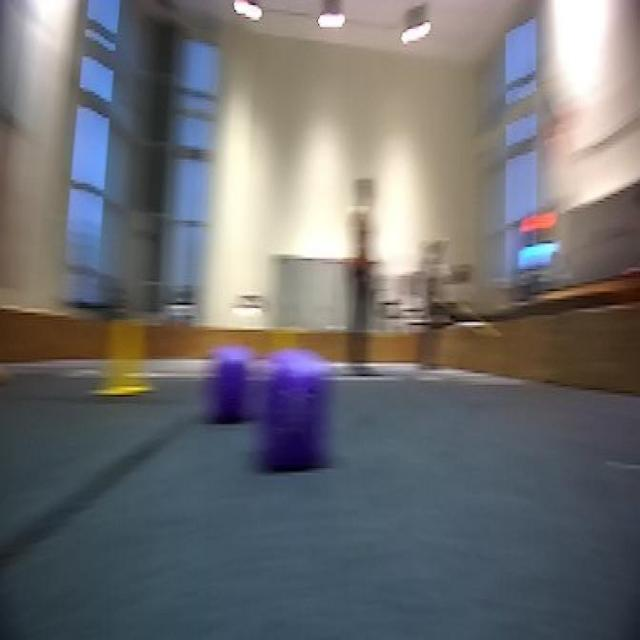frc_cone: (103, 311, 154, 407)
frc_cube: (266, 374, 330, 482), (214, 371, 248, 419)
